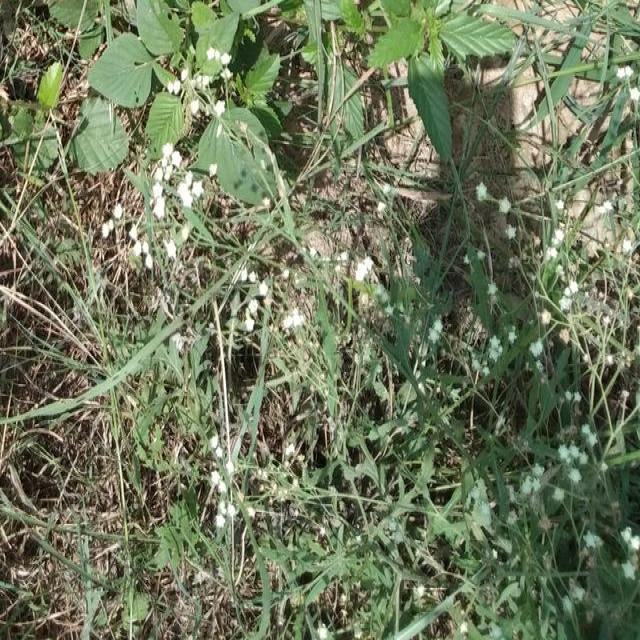weed: (320, 256, 630, 618), (47, 0, 288, 205), (361, 0, 516, 145)
